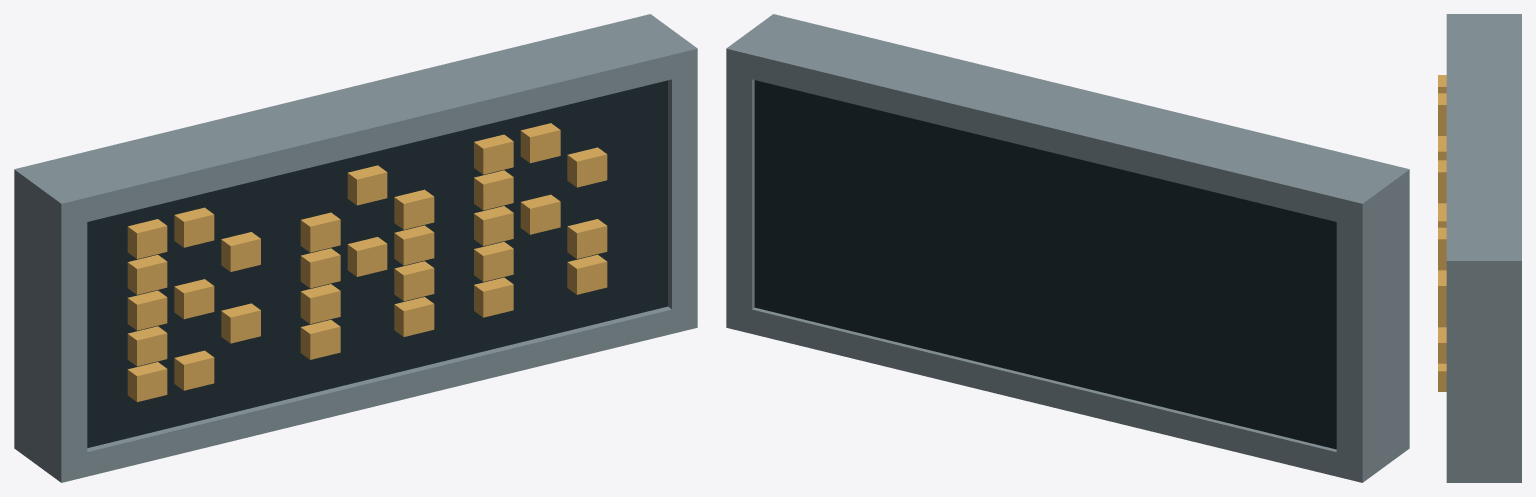
The model's file is CMU3DNeonBarSign.glb.
3 views of the same model, side by side, from view 1: azimuth 30°, elevation 25°; view 2: azimuth 150°, elevation 25°; view 3: azimuth 270°, elevation 25° (orthographic). The views are drawn at different scales.
Parts seen in each view (by area): view 1: sign body, upper trim, lower trim, left trim, amber letter A (×10), amber letter B (×10), amber letter R (×10), right trim; view 2: sign body, upper trim, lower trim, left trim, right trim; view 3: upper trim, right trim, lower trim, amber letter R (×5), amber letter B (×3), amber letter A.
Part boxes in pixels (x1,y1,x2,y2): sign body: (87, 80, 667, 447); upper trim: (14, 14, 697, 228); lower trim: (14, 303, 697, 482); left trim: (14, 194, 87, 458); amber letter A (×10): (300, 165, 434, 359); amber letter B (×10): (127, 207, 260, 401); amber letter R (×10): (474, 123, 607, 317); right trim: (668, 73, 697, 309); sign body: (754, 80, 1336, 449); upper trim: (726, 14, 1409, 228); lower trim: (726, 303, 1409, 482); left trim: (1336, 194, 1409, 458); right trim: (726, 73, 754, 309); upper trim: (1446, 14, 1521, 280); right trim: (1446, 280, 1521, 463); lower trim: (1446, 463, 1521, 482); amber letter R (×5): (1438, 209, 1446, 391); amber letter B (×3): (1438, 75, 1446, 160); amber letter A: (1438, 160, 1446, 192).
Size of the model in its own units: 1.36 by 0.57 by 0.195.
